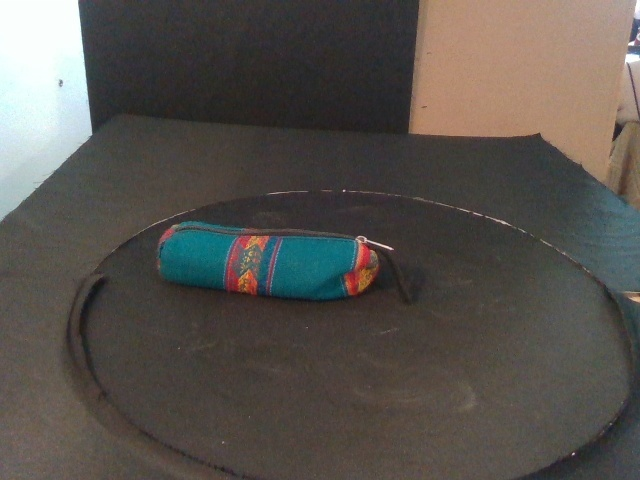pencil_case: (155, 220, 382, 301)
